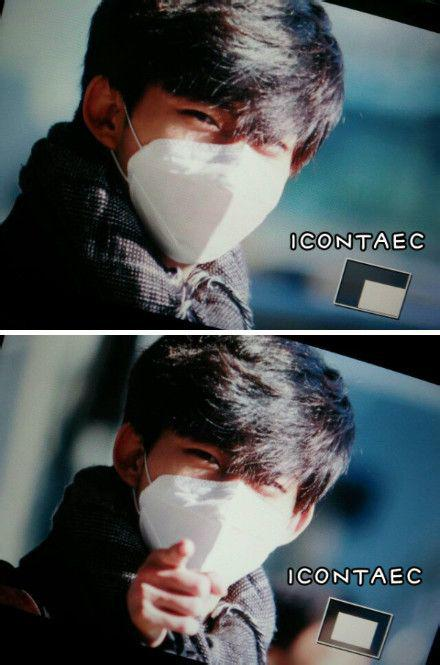OK: (135, 73, 326, 264), (140, 413, 316, 589)
